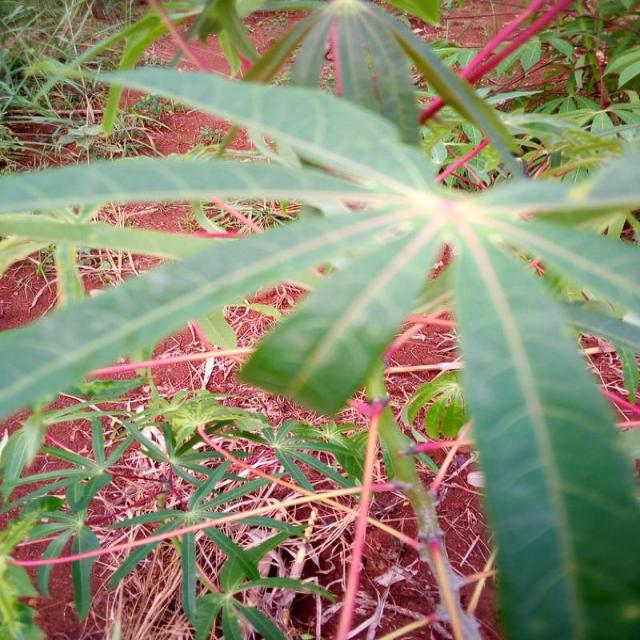cassava leaf: (0, 1, 638, 637), (452, 214, 638, 638)
